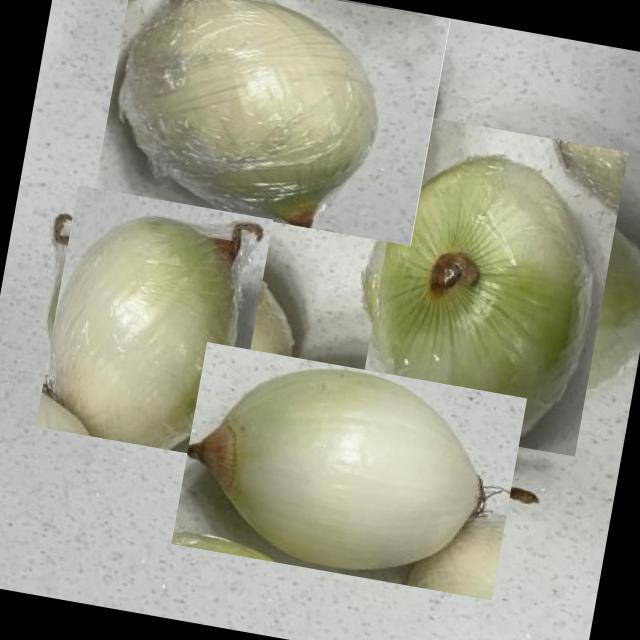Onion: (338, 130, 640, 438), (171, 341, 528, 600), (94, 0, 450, 245), (25, 194, 282, 451)
